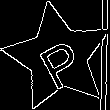P_NW: (30, 26, 87, 89)
